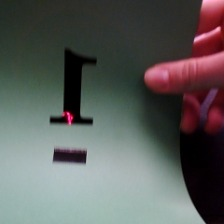green1: (41, 43, 115, 167)
